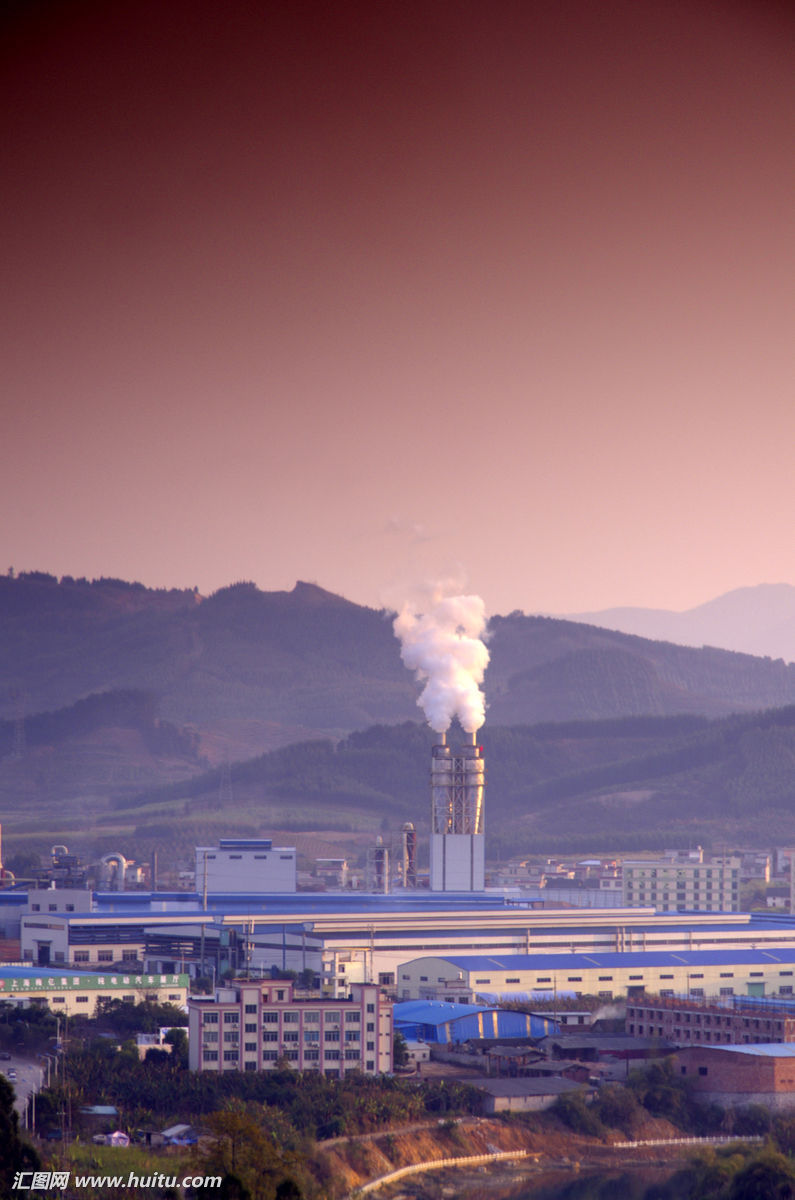dust: (378, 580, 511, 776)
